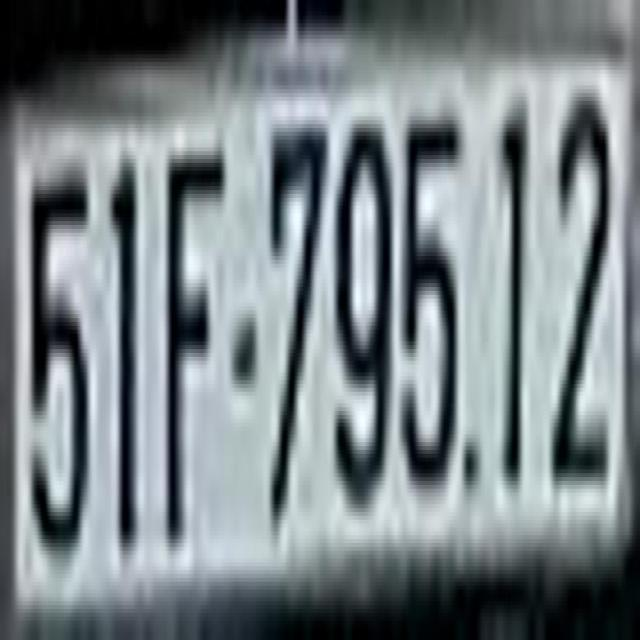1: (108, 144, 144, 543), (500, 90, 528, 470)
2: (564, 97, 614, 489)
5: (27, 166, 86, 558), (406, 109, 459, 477)
7: (270, 136, 329, 566)
9: (339, 140, 388, 535)
F: (168, 132, 222, 527)
